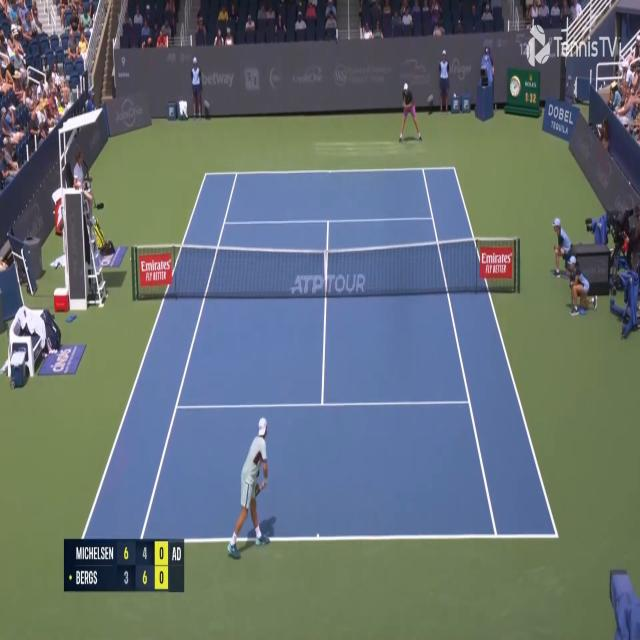tennis-player: (225, 412, 277, 565), (398, 81, 422, 144)
